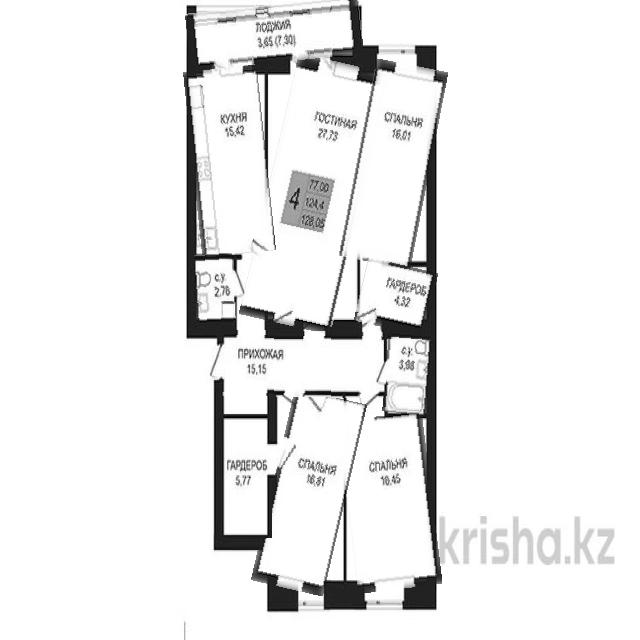balcony: (187, 0, 363, 66)
bathroom: (383, 334, 434, 414), (190, 254, 235, 322)
hallway: (219, 331, 386, 397)
kitchen: (188, 66, 271, 256)
living_room: (254, 56, 376, 332), (261, 391, 357, 594), (348, 60, 439, 267), (342, 413, 437, 592)
other: (220, 418, 272, 538), (358, 260, 436, 333)
